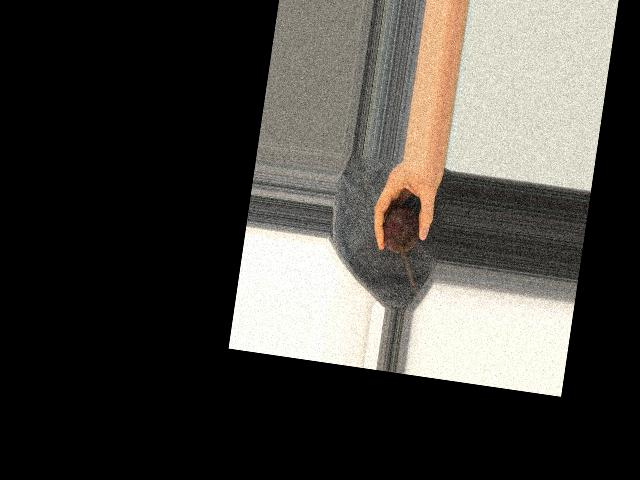beet: (380, 204, 422, 255)
